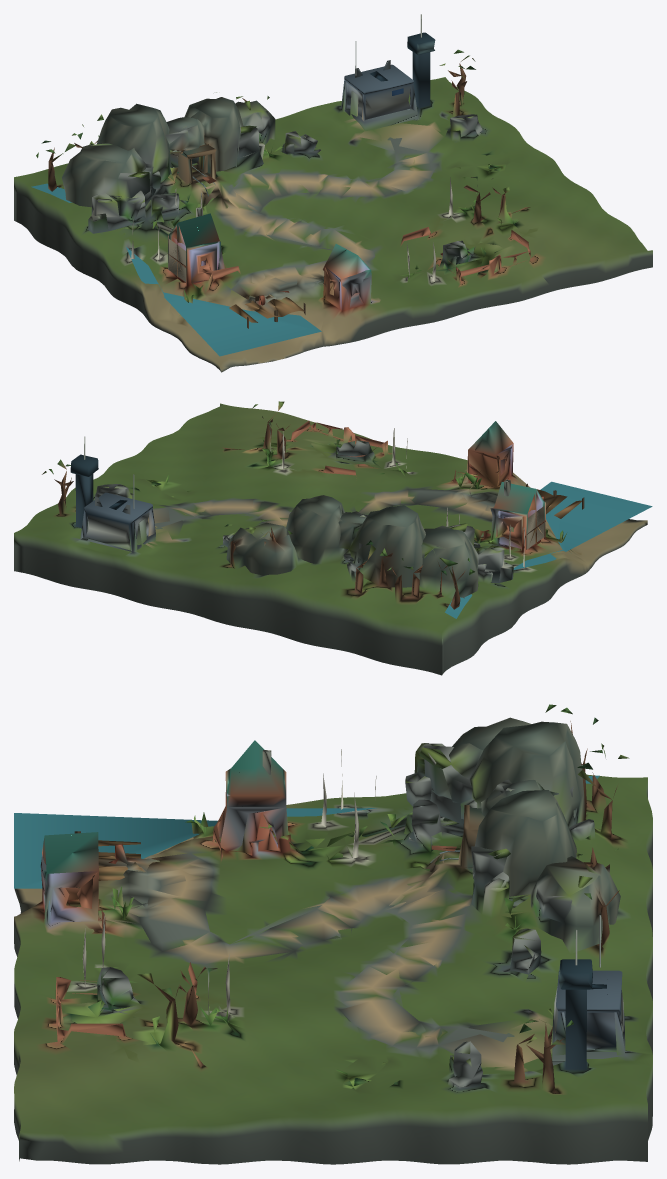
The model's file is viridis.far.glb.
3 views of the same model, one above another, from view 1: azimuth 30°, elevation 25°; view 2: azimuth 150°, elevation 25°; view 3: azimuth 270°, elevation 25° (orthographic). The views are drawn at different scales.
Visible parts, largest first — view 1: Static terrain and architecture • material batches; view 2: Static terrain and architecture • material batches; view 3: Static terrain and architecture • material batches.
Boxes of the visible parts, x1=… form: Static terrain and architecture • material batches: x1=14, y1=14, x2=652, y2=372; Static terrain and architecture • material batches: x1=14, y1=401, x2=652, y2=675; Static terrain and architecture • material batches: x1=14, y1=704, x2=652, y2=1164.
Bounding box in the file's own units: 24.08 × 6.79 × 20.
